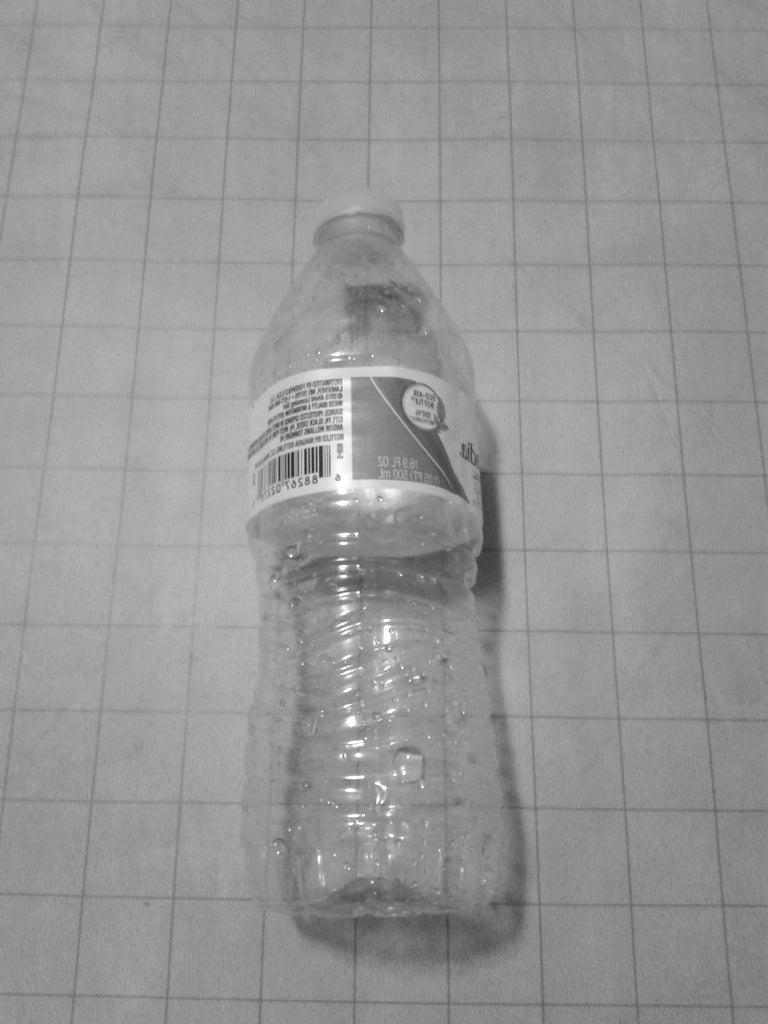bottle: (223, 164, 533, 958)
